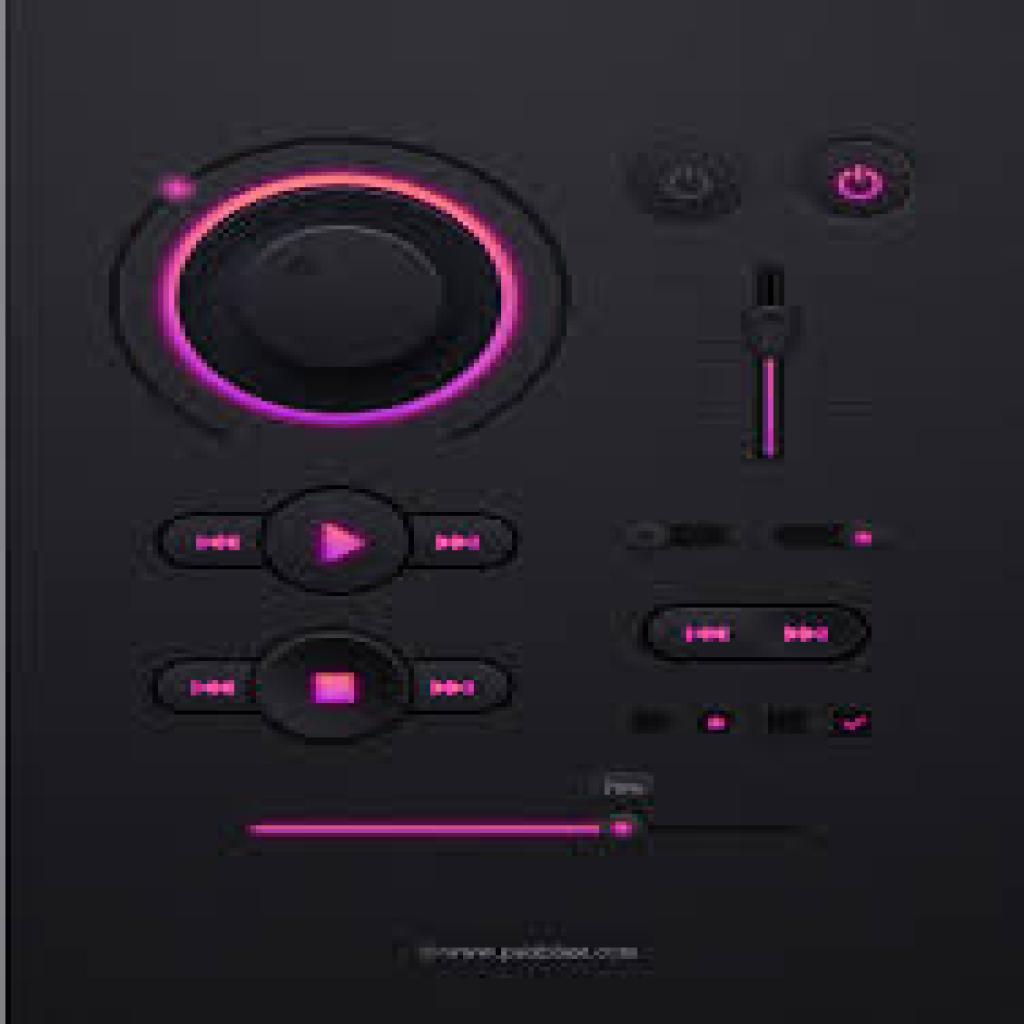checkbox: (768, 703, 815, 735), (831, 705, 871, 740)
icon: (307, 507, 374, 578), (295, 662, 371, 718)
slider: (207, 808, 888, 864), (746, 256, 803, 461)
switch: (752, 514, 898, 567), (609, 508, 741, 558)
